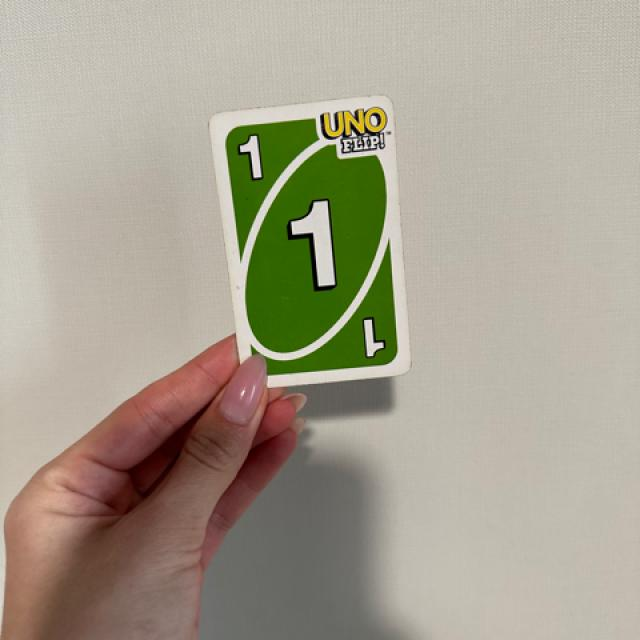lgreen-1: (221, 122, 280, 194)
